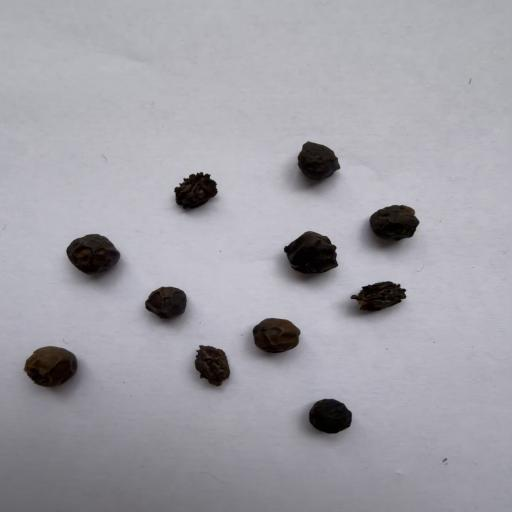Black_pepper: (269, 218, 346, 279), (290, 394, 368, 450), (61, 229, 152, 276), (244, 308, 326, 355), (360, 198, 430, 253), (291, 139, 357, 192), (22, 342, 98, 387), (143, 278, 214, 323)
papaya_seed: (177, 164, 249, 212), (340, 277, 412, 316), (184, 341, 230, 385)
